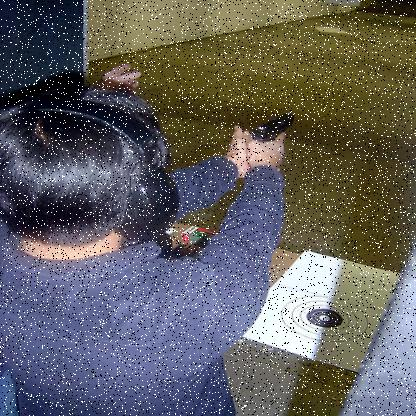pistol: (252, 110, 296, 145)
